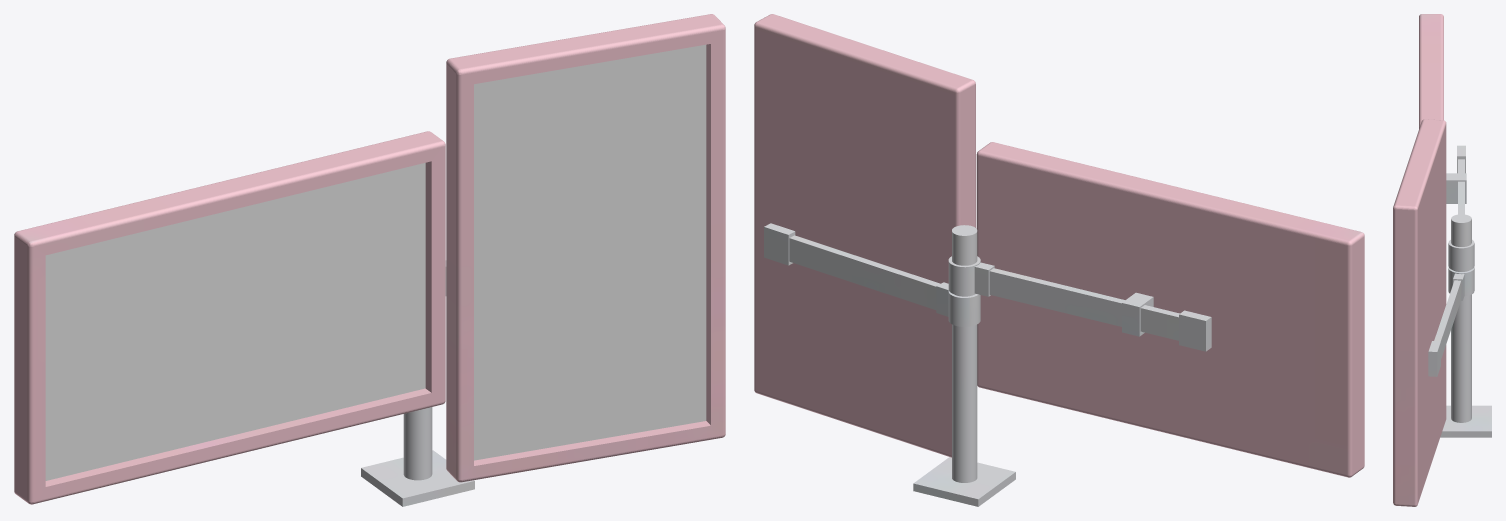
File: monitor.glb
3 views of the same model, side by side, from view 1: azimuth 30°, elevation 25°; view 2: azimuth 150°, elevation 25°; view 3: azimuth 270°, elevation 25° (orthographic). The views are drawn at different scales.
Visible parts, largest first — view 1: display_R, display_L, monitor_interact; view 2: monitor_interact; view 3: monitor_interact.
Boxes of the visible parts, x1,y1,x2,y2 form: display_R: [474, 44, 706, 460]; display_L: [45, 163, 425, 480]; monitor_interact: [14, 14, 725, 506]; monitor_interact: [754, 14, 1364, 506]; monitor_interact: [1393, 14, 1491, 506].
Bounding box in the file's own units: 1.57 × 0.9418 × 0.2707.
Materials: 1 (1 with a texture image).
